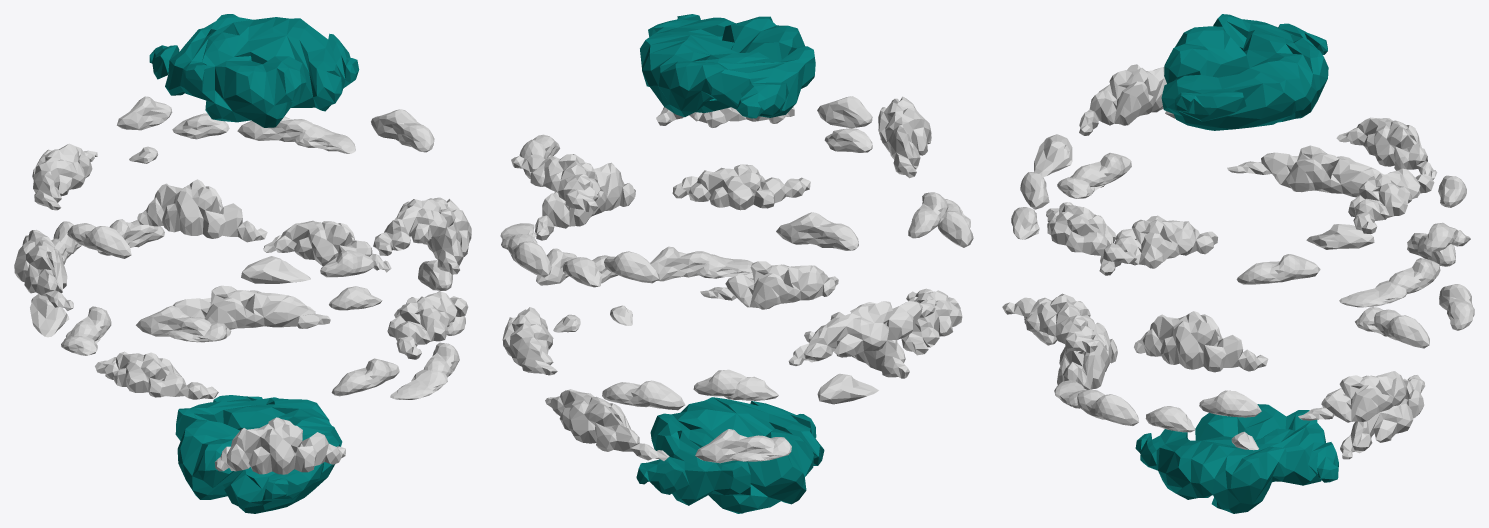
File: world.obj
3 renders of one model, left to right at view 1: azimuth 30°, elevation 25°; view 2: azimuth 150°, elevation 25°; view 3: azimuth 270°, elevation 25°, orthographic. The views are drawn at different scales.
Parts seen in each view (by area): view 1: clouds2, cloud18, cloud17; view 2: clouds2, cloud18, cloud17; view 3: clouds2, cloud18, cloud17.
Part boxes in pixels (box(x1,y1,x2,y2)): clouds2: box(14, 96, 471, 474); cloud18: box(149, 14, 359, 127); cloud17: box(175, 395, 342, 513); clouds2: box(500, 96, 973, 463); cloud18: box(640, 14, 815, 118); cloud17: box(636, 397, 824, 513); clouds2: box(1002, 64, 1474, 459); cloud18: box(1161, 14, 1328, 130); cloud17: box(1135, 404, 1338, 513).
Size of the model in its own units: 5.28 by 5.77 by 5.44.
